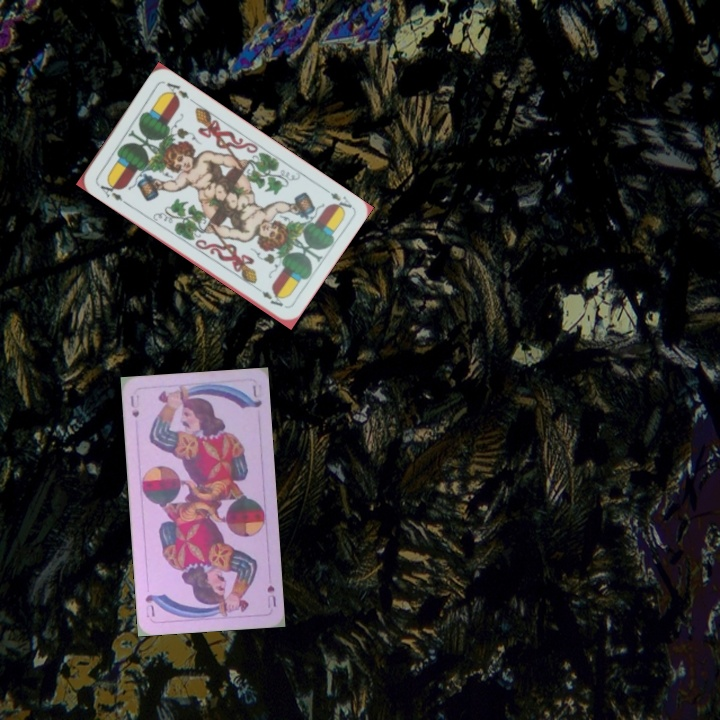EA: (318, 183, 355, 215), (93, 176, 130, 207)
SU: (126, 391, 142, 420), (263, 581, 279, 610)
